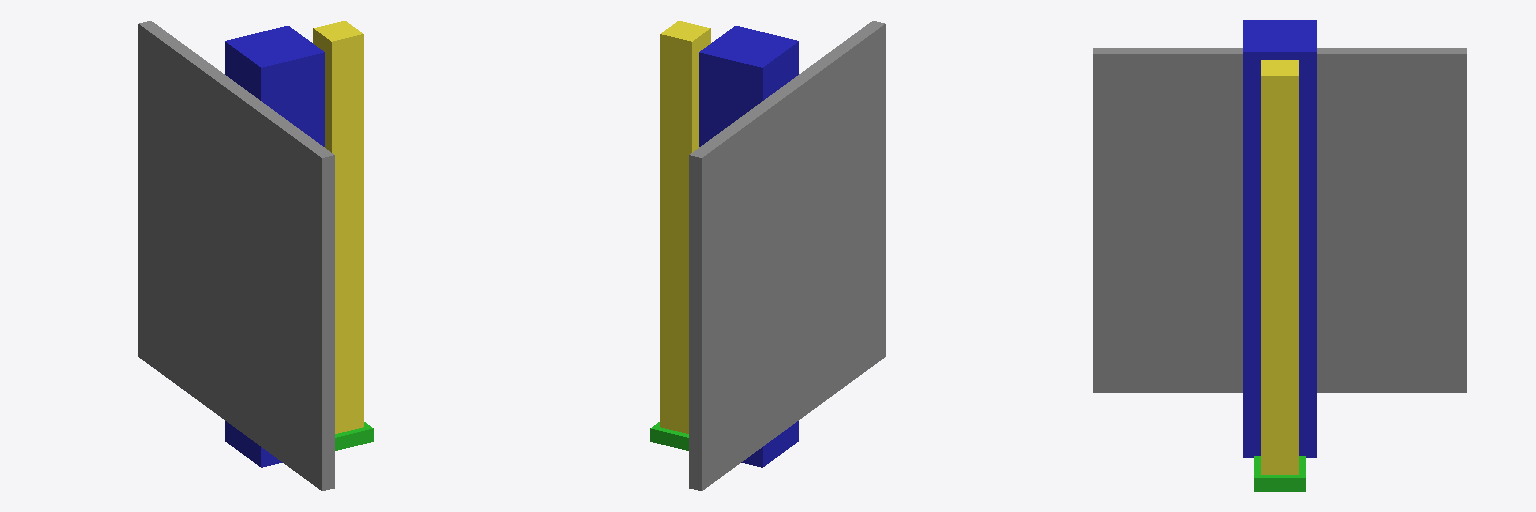
The robot description file, URDF, robot "slider_robot":
<?xml version="1.0"?>
<robot name="slider_robot">

  <!-- ================= BASE PLATFORM ================= -->

  <link name="world"/>

<joint name="world_to_base" type="fixed">
  <parent link="world"/>
  <child link="base_link"/>
  <origin xyz="0 0 0" rpy="0 0 0"/>
</joint>

  <link name="base_link">
    <visual>
      <geometry>
        <box size="0.5 0.5 0.02"/>
      </geometry>
      <origin xyz="0 0 1" rpy="0 1.5707 0"/>
      <material name="gray">
        <color rgba="0.6 0.6 0.6 1.0"/>
      </material>
    </visual>

    <collision>
      <geometry>
        <box size="0.5 0.5 0.02"/>
      </geometry>
      <origin xyz="0 0 1" rpy="0 1.5707 0"/>
    </collision>

    <inertial>
      <mass value="2.0"/>
      <origin xyz="0 0 1" rpy="0 1.5707 0"/>
      <inertia ixx="0.02" ixy="0.0" ixz="0.0"
               iyy="0.02" iyz="0.0"
               izz="0.04"/>
    </inertial>
  </link> 

  <!-- ================= SLIDER BLOCK ================= -->
  <link name="slider_link">
    <visual>
      <geometry>
        <box size="0.1 0.6 0.1"/>
      </geometry>
      <origin xyz="0 0 0" rpy="1.5707 0 0"/>
      <material name="blue">
        <color rgba="0.2 0.2 0.8 1.0"/>
      </material>
    </visual>
    
    <collision>
      <geometry>
        <box size="0.1 0.6 0.1"/>
      </geometry>
      <origin xyz="0 0 0" rpy="1.5707 0 0"/>
    </collision> 

    <inertial>
      <mass value="1.0"/>
      <origin xyz="0 0 0" rpy="1.5707 0 0"/>
      <inertia ixx="0.01" ixy="0.0" ixz="0.0"
               iyy="0.01" iyz="0.0"
               izz="0.01"/>
    </inertial>
  </link>


<!-- ===================== DRILL BLOCK ==================-->
  <link name="drill_link">
    <visual>
      <geometry>
        <box size="0.05 0.6 0.05"/>
      </geometry>
      <origin xyz="0 0 0" rpy="1.5707 0 0"/>
    </visual>

    <collision>
      <geometry>
        <box size="0.05 0.6 0.05"/>
      </geometry>
      <origin xyz="0 0 0" rpy="1.5707 0 0"/>
    </collision> 

    <inertial>
      <mass value="1.0"/>
      <origin xyz="0 0 0" rpy="1.5707 0 0"/>
      <inertia ixx="0.01" ixy="0.0" ixz="0.0"
               iyy="0.01" iyz="0.0"
               izz="0.01"/>
    </inertial>
  </link>

<!-- ===================== DRILL Rotation ==================-->
  <link name="rotor_link">
    <visual>
      <geometry>
        <box size="0.07 0.07 0.02"/>
      </geometry>
      <origin xyz="0 0 0" rpy="0 0 0"/>
      <material name="green">
        <color rgba="0.2 0.8 0.2 1.0"/>
      </material>
    </visual>

    <collision>
      <geometry>
        <box size="0.07 0.7 0.02"/>
      </geometry>
      <origin xyz="0 0 0" rpy="0 0 0"/>
    </collision> 

    <inertial>
      <mass value="1.0"/>
      <origin xyz="0 0 0" rpy="0 0 0"/>
      <inertia ixx="0.01" ixy="0.0" ixz="0.0"
               iyy="0.01" iyz="0.0"
               izz="0.01"/>
    </inertial>
  </link>


  <!--==================JOINTS====================-->
  <joint name="platform_joint" type="prismatic">
    <parent link="base_link"/>
    <child link="slider_link"/>

   
    <origin xyz="0.06 0 1" rpy="0 0 0"/>

    <axis xyz="0 0 1"/>

    <limit lower="-0.2" upper="0.2" effort="50" velocity="0.5"/>
  </joint> 

  <joint name="drill_joint" type="prismatic">
    <parent link="slider_link"/>
    <child link="drill_link"/>

   
    <origin xyz="0.1 0 0" rpy="0 0 0"/>

    <axis xyz="0 0 1"/>

    <limit lower="-0.2" upper="0.2" effort="50" velocity="0.5"/>
  </joint> 

  <joint name="rotor_joint" type="continuous">
    <parent link="drill_link"/>
    <child link="rotor_link"/>

   
    <origin xyz="0 0 -0.3" rpy="0 0 0"/>

    <axis xyz="0 0 1"/>

    <limit lower="0.0" upper="6.2" effort="50" velocity="0.5"/> 
  </joint> 

  <gazebo>
    <plugin
      filename="libgz_ros2_control-system.so"
      name="gz_ros2_control::GazeboSimROS2ControlPlugin">
      <parameters>__CONTROLLER_CONFIG_PATH__</parameters>
    </plugin>
  </gazebo>

  <ros2_control name="GazeboSimSystem" type="system">
    <hardware>
      <plugin>gz_ros2_control/GazeboSimSystem</plugin>
    </hardware>

    <joint name="platform_joint">
      <command_interface name="position"/>
      <state_interface name="position"/>
      <state_interface name="velocity"/>
    </joint>

    <joint name="drill_joint">
      <command_interface name="position"/>
      <state_interface name="position"/>
      <state_interface name="velocity"/>
    </joint>

     <joint name="rotor_joint">
      <command_interface name="velocity"/>
      <state_interface name="position"/>
      <state_interface name="velocity"/>
    </joint>
    
  </ros2_control>



</robot>

--- Render facts (derived) ---
Views: 3 orthographic renders of the robot side by side, from view 1: azimuth 30°, elevation 25°; view 2: azimuth 150°, elevation 25°; view 3: azimuth 270°, elevation 25°.
Model slider_robot with 5 links and 4 joints (1 continuous, 2 prismatic, 1 fixed), rooted at world, posed every joint at zero.
Links seen in each view (by area): view 1: base_link, drill_link, slider_link, rotor_link; view 2: base_link, drill_link, slider_link, rotor_link; view 3: base_link, slider_link, drill_link, rotor_link.
Boxes of the visible links, x1,y1,x2,y2 form: base_link: [138, 21, 334, 490]; drill_link: [313, 21, 363, 433]; slider_link: [225, 26, 324, 467]; rotor_link: [335, 422, 373, 450]; base_link: [689, 21, 885, 490]; drill_link: [660, 21, 710, 433]; slider_link: [699, 26, 798, 467]; rotor_link: [650, 422, 688, 450]; base_link: [1093, 48, 1466, 392]; slider_link: [1243, 20, 1316, 457]; drill_link: [1261, 60, 1298, 474]; rotor_link: [1254, 456, 1305, 491].
Size in the robot's own frame: 0.205 by 0.5 by 0.61 metres.
Geometry: primitives only (box / cylinder / sphere), no mesh files.
